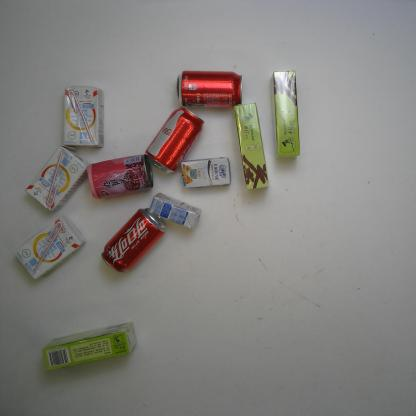Canned Food: (87, 153, 154, 200)
Drink: (100, 207, 167, 273), (144, 104, 206, 174), (176, 69, 244, 108)
Instant Drink: (42, 321, 139, 372), (234, 101, 270, 191), (269, 68, 301, 158)
Milk: (13, 213, 88, 280), (24, 144, 92, 212), (62, 84, 105, 148), (148, 192, 202, 230), (180, 156, 232, 189)
